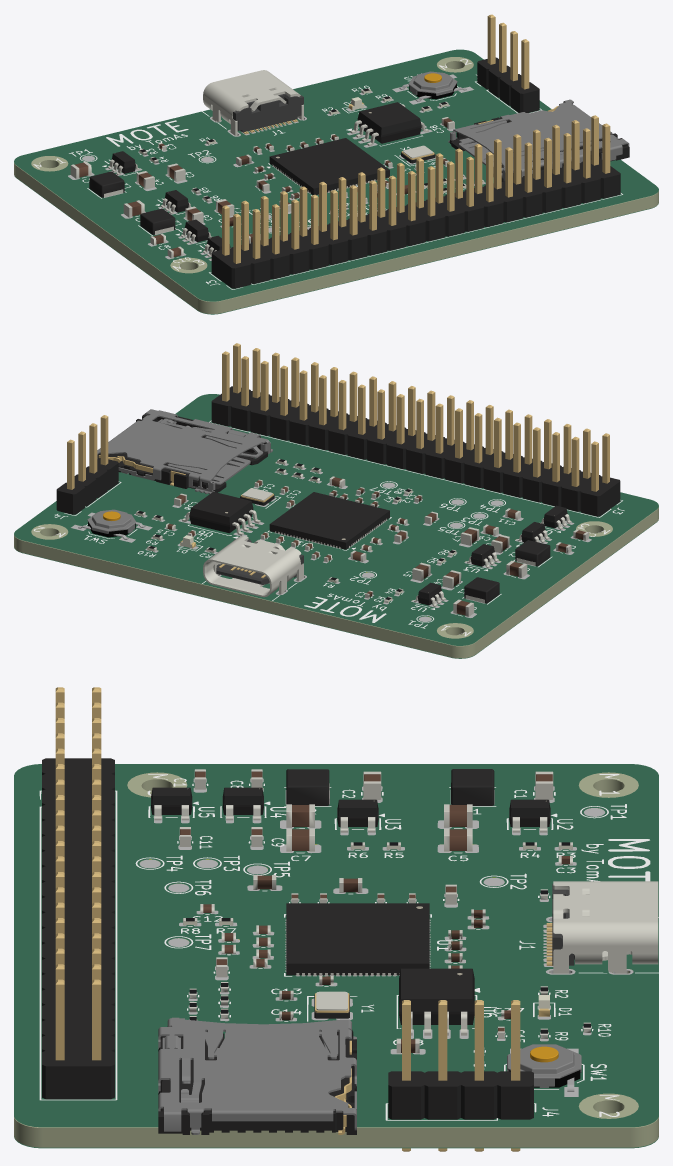
Rendered from mote.glb.
3 views of the same model, one above another, from view 1: azimuth 30°, elevation 25°; view 2: azimuth 150°, elevation 25°; view 3: azimuth 270°, elevation 25° (orthographic). The views are drawn at different scales.
Parts seen in each view (by area): view 1: =>[0:1:1:3], =>[0:1:1:37], =>[0:1:1:39], =>[0:1:1:5], =>[0:1:1:19], =>[0:1:1:35], =>[0:1:1:33], =>[0:1:1:23], =>[0:1:1:7], =>[0:1:1:27]; view 2: =>[0:1:1:37], =>[0:1:1:3], =>[0:1:1:39], =>[0:1:1:5], =>[0:1:1:19], =>[0:1:1:35], =>[0:1:1:33], =>[0:1:1:7], =>[0:1:1:27], =>[0:1:1:23]; view 3: =>[0:1:1:37], =>[0:1:1:3], =>[0:1:1:19], =>[0:1:1:5], =>[0:1:1:39], =>[0:1:1:35], =>[0:1:1:33], =>[0:1:1:7], =>[0:1:1:27].
Boxes of the visible parts, bbox=[...] form: =>[0:1:1:3]: bbox=[89, 14, 629, 288]; =>[0:1:1:37]: bbox=[14, 49, 658, 314]; =>[0:1:1:39]: bbox=[14, 57, 658, 313]; =>[0:1:1:5]: bbox=[70, 70, 484, 258]; =>[0:1:1:19]: bbox=[448, 99, 629, 180]; =>[0:1:1:35]: bbox=[33, 59, 622, 289]; =>[0:1:1:33]: bbox=[68, 74, 485, 260]; =>[0:1:1:23]: bbox=[233, 94, 303, 132]; =>[0:1:1:7]: bbox=[75, 118, 452, 256]; =>[0:1:1:27]: bbox=[399, 71, 466, 101]; =>[0:1:1:37]: bbox=[14, 394, 658, 658]; =>[0:1:1:3]: bbox=[56, 343, 620, 605]; =>[0:1:1:39]: bbox=[14, 482, 658, 658]; =>[0:1:1:5]: bbox=[136, 459, 588, 616]; =>[0:1:1:19]: bbox=[97, 409, 272, 493]; =>[0:1:1:35]: bbox=[33, 420, 624, 636]; =>[0:1:1:33]: bbox=[71, 461, 591, 621]; =>[0:1:1:7]: bbox=[167, 477, 585, 615]; =>[0:1:1:27]: bbox=[78, 509, 145, 539]; =>[0:1:1:23]: bbox=[216, 539, 303, 584]; =>[0:1:1:37]: bbox=[14, 764, 658, 1148]; =>[0:1:1:3]: bbox=[42, 687, 552, 1151]; =>[0:1:1:19]: bbox=[158, 1017, 356, 1134]; =>[0:1:1:5]: bbox=[154, 769, 658, 1053]; =>[0:1:1:39]: bbox=[14, 772, 658, 1147]; =>[0:1:1:35]: bbox=[39, 774, 658, 1120]; =>[0:1:1:33]: bbox=[139, 778, 633, 1096]; =>[0:1:1:7]: bbox=[180, 771, 569, 1052]; =>[0:1:1:27]: bbox=[507, 1044, 581, 1091].
Bounding box in the file's own units: 0.0613 × 0.0115 × 0.045.
